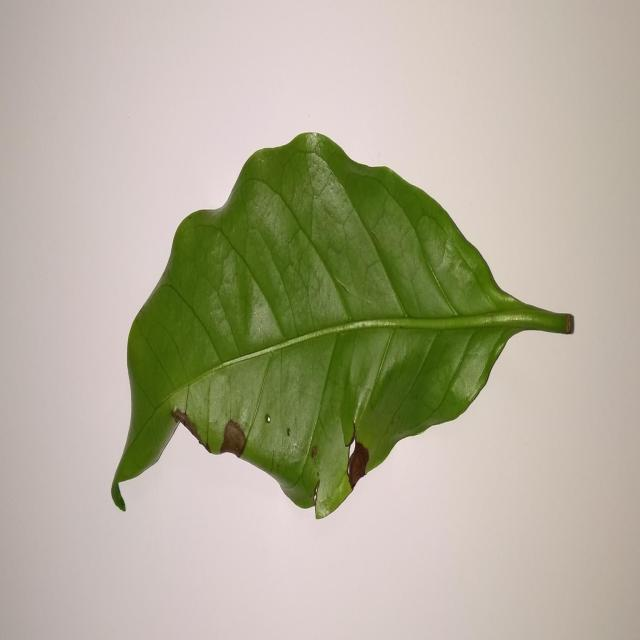Enfermedad-Antracnosis: (110, 134, 575, 522)
